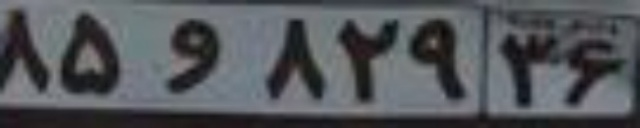2: (335, 17, 400, 101)
3: (498, 33, 558, 107)
5: (56, 12, 123, 94)
6: (565, 39, 625, 107)
8: (267, 16, 327, 100), (0, 8, 51, 95)
9: (407, 19, 467, 99)
vav: (158, 17, 224, 93)
